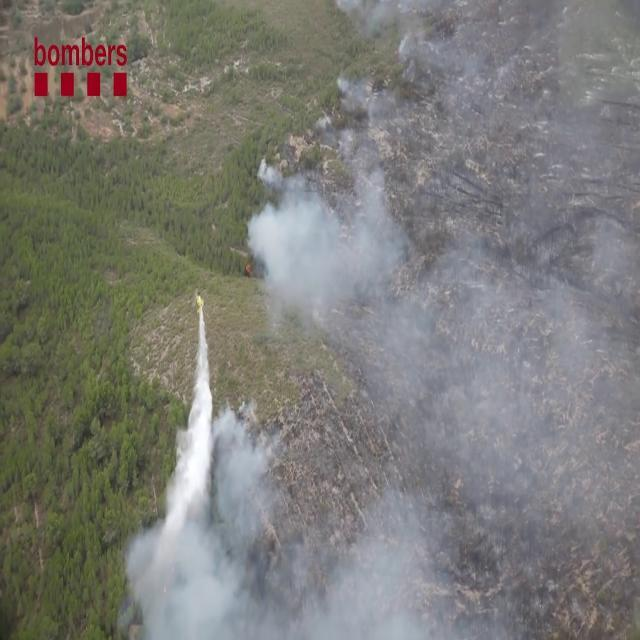Smoke: (258, 158, 640, 640), (114, 384, 292, 640)
